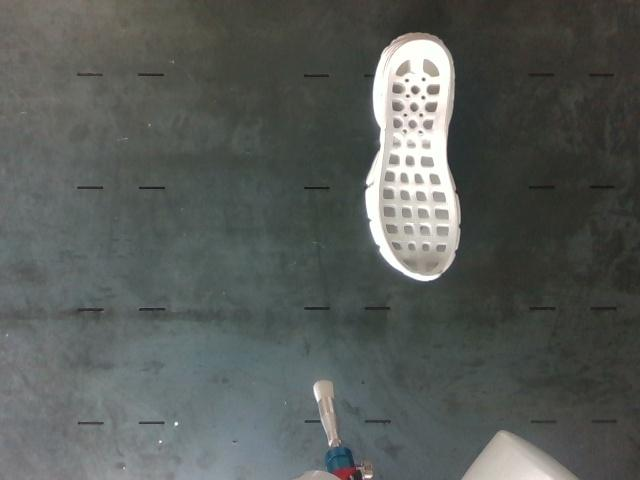shoes: (379, 39, 459, 276)
